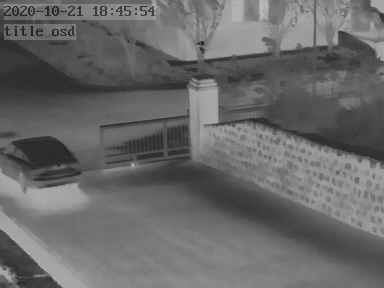vehicle: (1, 133, 82, 194)
